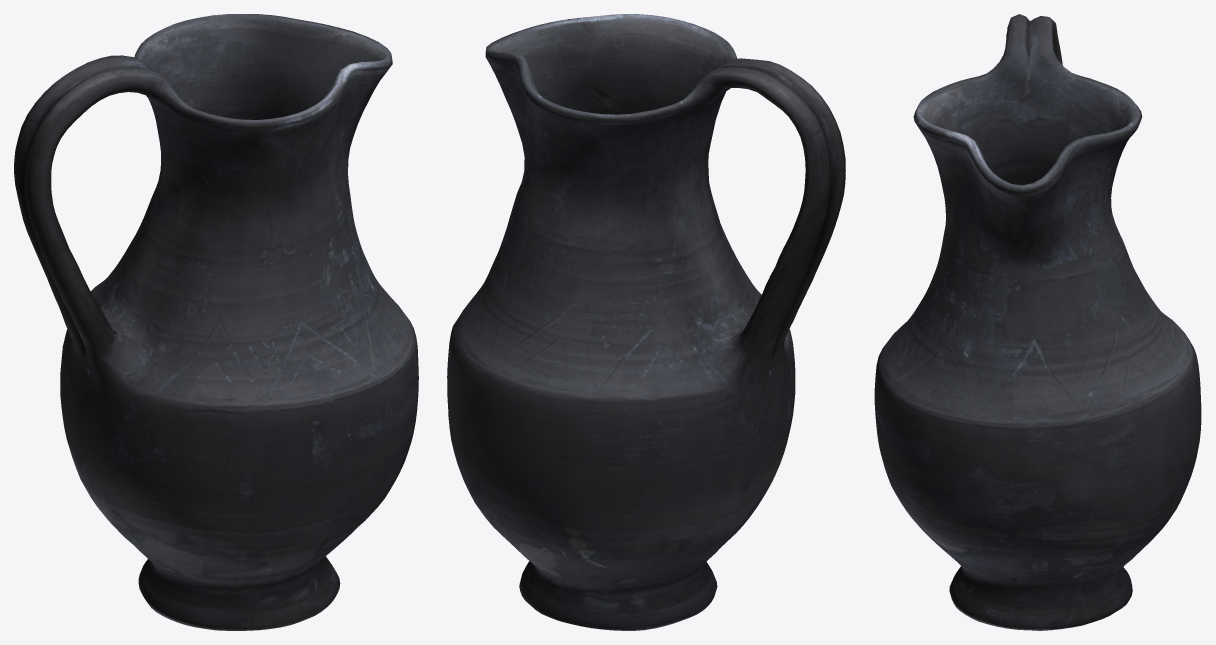
File: jar.fbx
The picture shows the model from 3 angles, left to right: view 1: azimuth 30°, elevation 25°; view 2: azimuth 150°, elevation 25°; view 3: azimuth 270°, elevation 25°; orthographic projection. The views are drawn at different scales.
Parts seen in each view (by area): view 1: JARRA_LOW:JARRA_LOW; view 2: JARRA_LOW:JARRA_LOW; view 3: JARRA_LOW:JARRA_LOW.
Boxes of the visible parts, x1,y1,x2,y2 form: JARRA_LOW:JARRA_LOW: (14,14,418,630); JARRA_LOW:JARRA_LOW: (447,14,845,630); JARRA_LOW:JARRA_LOW: (874,14,1201,630).
Bounding box in the file's own units: 15.4 × 22.23 × 12.85.
